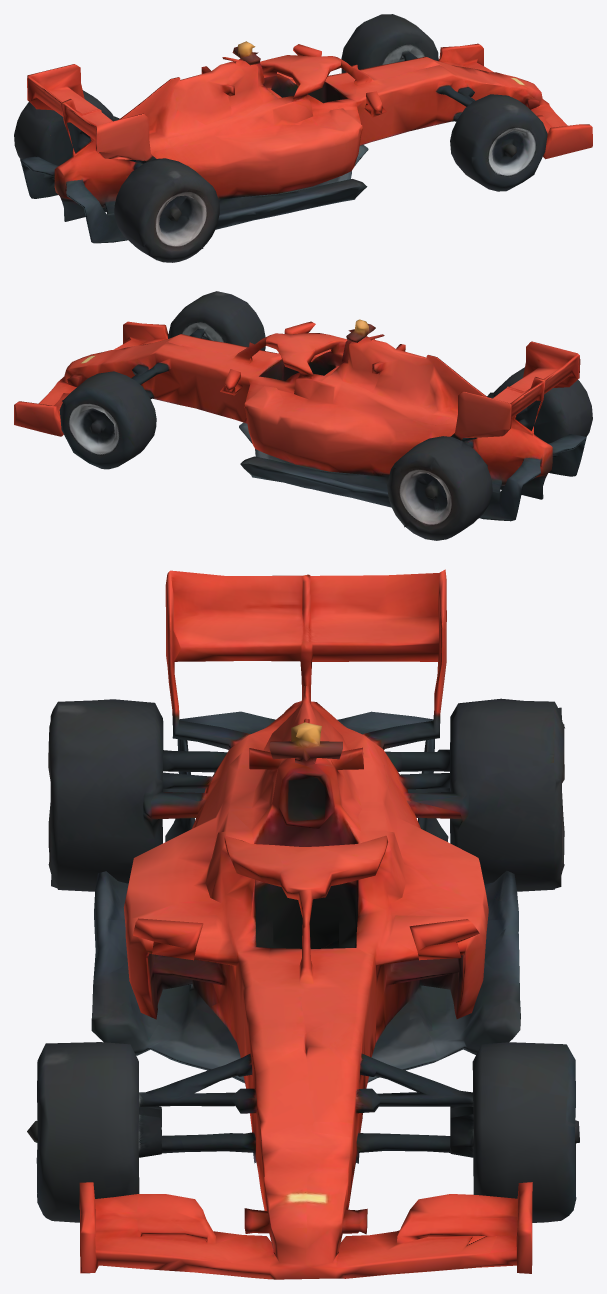
File: f1-car.glb
3 views of the same model, one above another, from view 1: azimuth 30°, elevation 25°; view 2: azimuth 150°, elevation 25°; view 3: azimuth 270°, elevation 25° (orthographic). The views are drawn at different scales.
Parts seen in each view (by area): view 1: f1-car-0; view 2: f1-car-0; view 3: f1-car-0.
Boxes of the visible parts, bbox=[...] form: f1-car-0: bbox=[14, 14, 592, 262]; f1-car-0: bbox=[14, 291, 592, 540]; f1-car-0: bbox=[27, 569, 579, 1279].
Bounding box in the file's own units: 1 × 0.289 × 0.4863.
1 material, 1 textured.
